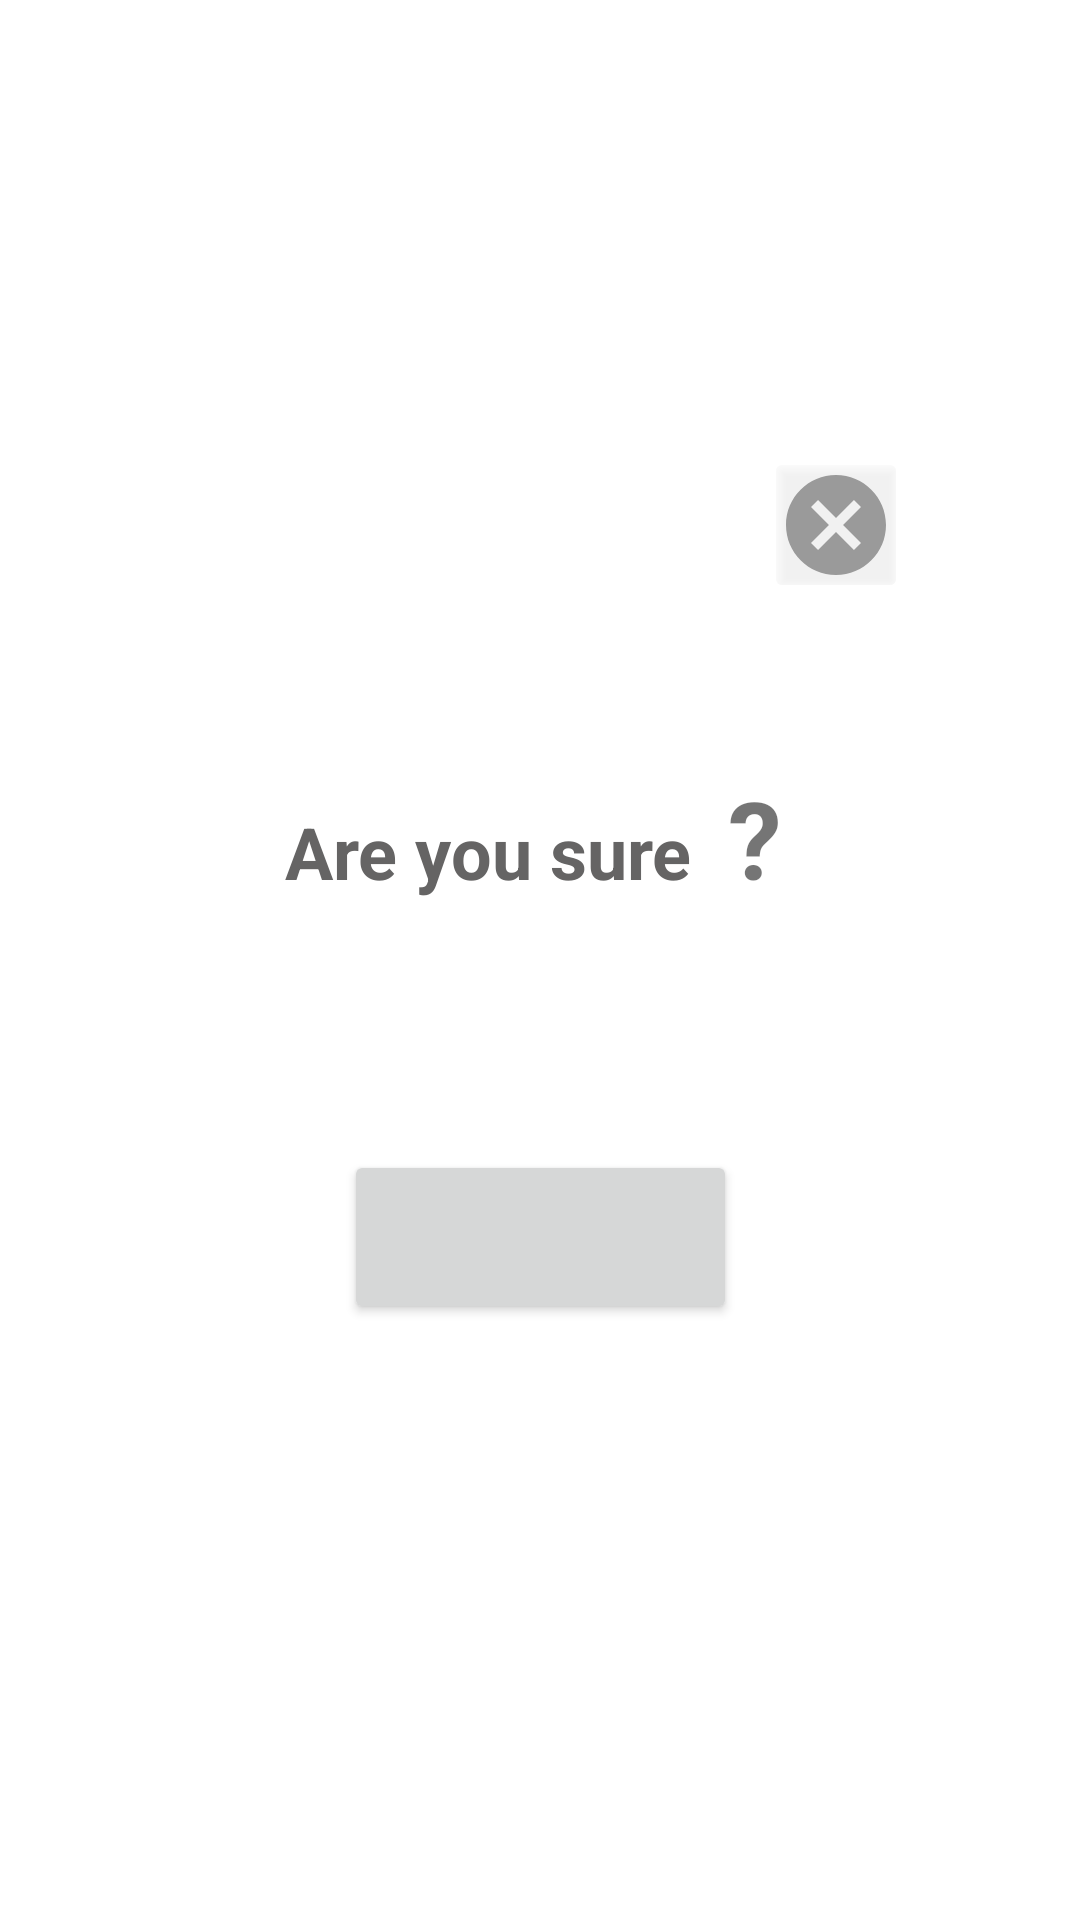

Icon click points for this 1080×1920 phone screenshot, format [x,y]:
Cancel Image: [836,525]
